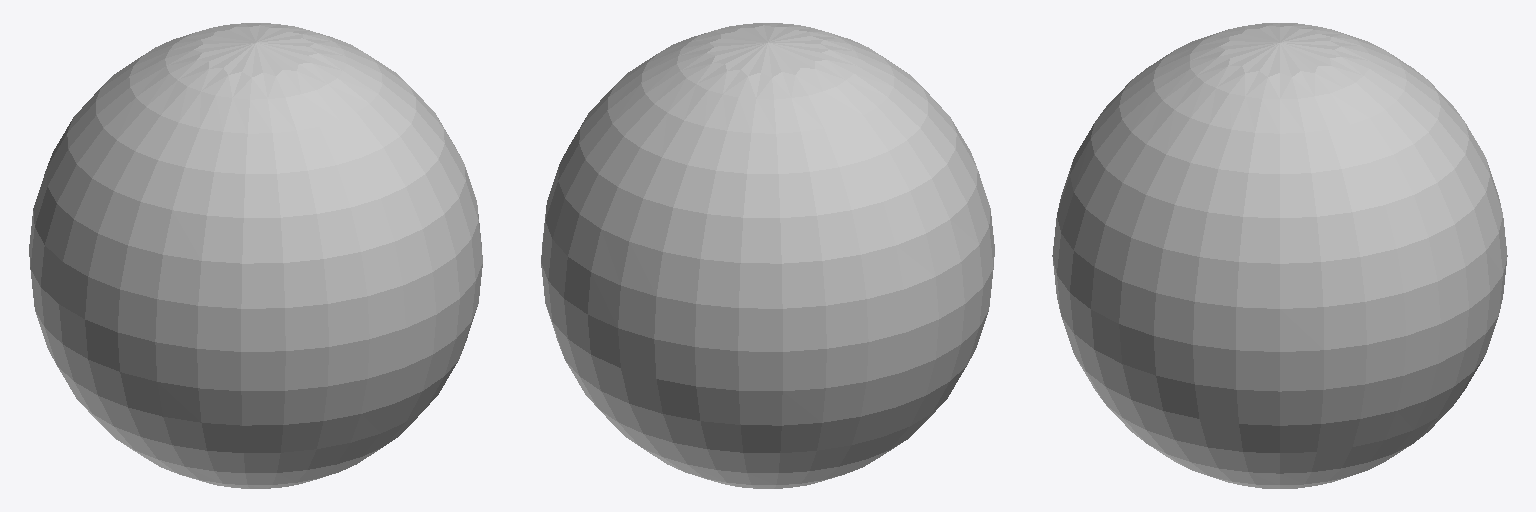
File: sphere_small.obj
The picture shows the model from 3 angles: view 1: azimuth 30°, elevation 25°; view 2: azimuth 150°, elevation 25°; view 3: azimuth 270°, elevation 25°; orthographic projection.
Parts seen in each view (by area): view 1: Sphere_Sphere.001; view 2: Sphere_Sphere.001; view 3: Sphere_Sphere.001.
Part boxes in pixels (x1,y1,x2,y2): Sphere_Sphere.001: (29,23,482,488); Sphere_Sphere.001: (541,23,994,488); Sphere_Sphere.001: (1052,23,1507,488).
Bounding box in the file's own units: 0.019 × 0.0197 × 0.019.